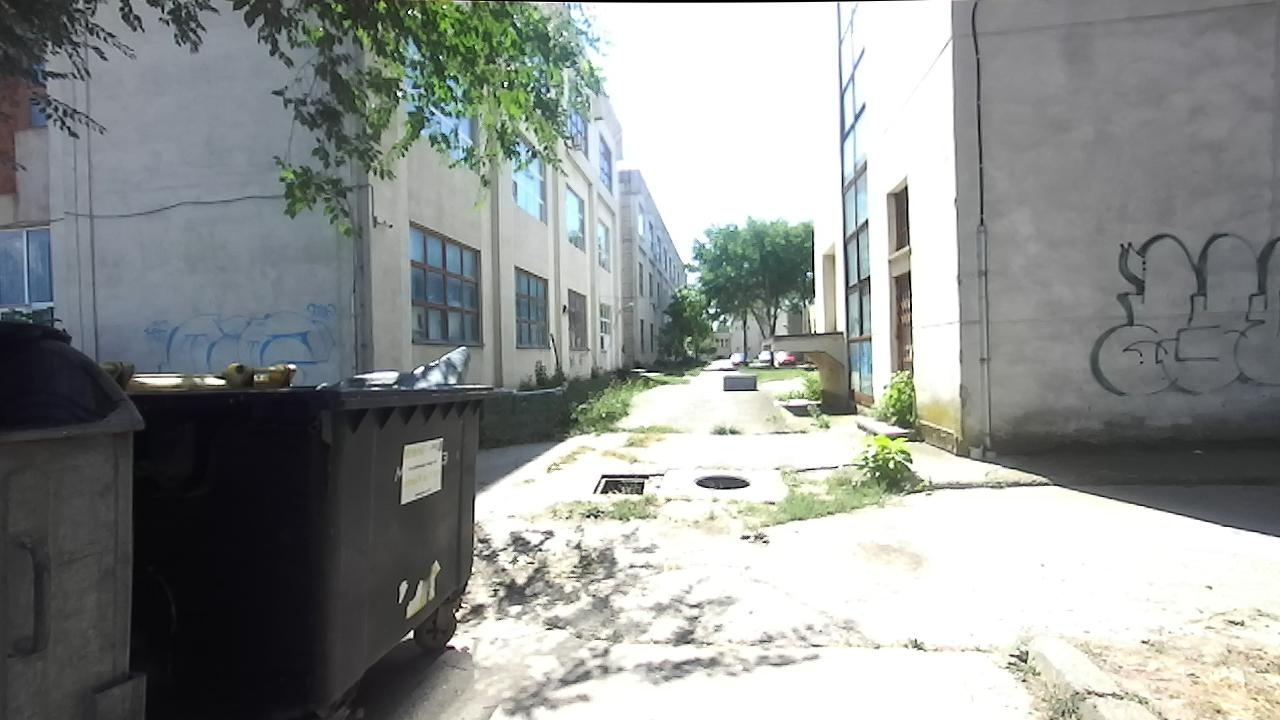drain: (587, 471, 648, 501), (686, 470, 751, 495)
